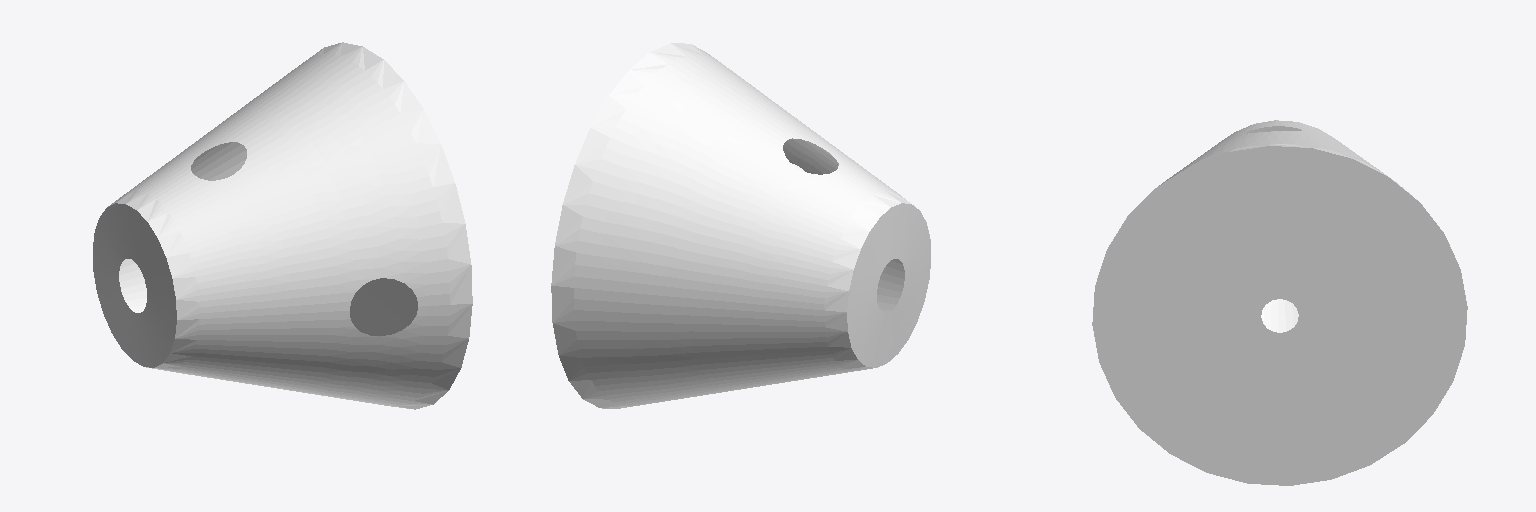
3 renders of one model, left to right at view 1: azimuth 30°, elevation 25°; view 2: azimuth 150°, elevation 25°; view 3: azimuth 270°, elevation 25°, orthographic.
Parts seen in each view (by area): view 1: pasted__pasted__pasted__o1 pasted__turbine1 group9; view 2: pasted__pasted__pasted__o1 pasted__turbine1 group9; view 3: pasted__pasted__pasted__o1 pasted__turbine1 group9.
Boxes of the visible parts, x1=… form: pasted__pasted__pasted__o1 pasted__turbine1 group9: x1=93, y1=42, x2=472, y2=409; pasted__pasted__pasted__o1 pasted__turbine1 group9: x1=551, y1=43, x2=930, y2=408; pasted__pasted__pasted__o1 pasted__turbine1 group9: x1=1092, y1=120, x2=1467, y2=485.
Size of the model in its own units: 0.355 by 0.4695 by 0.4695.